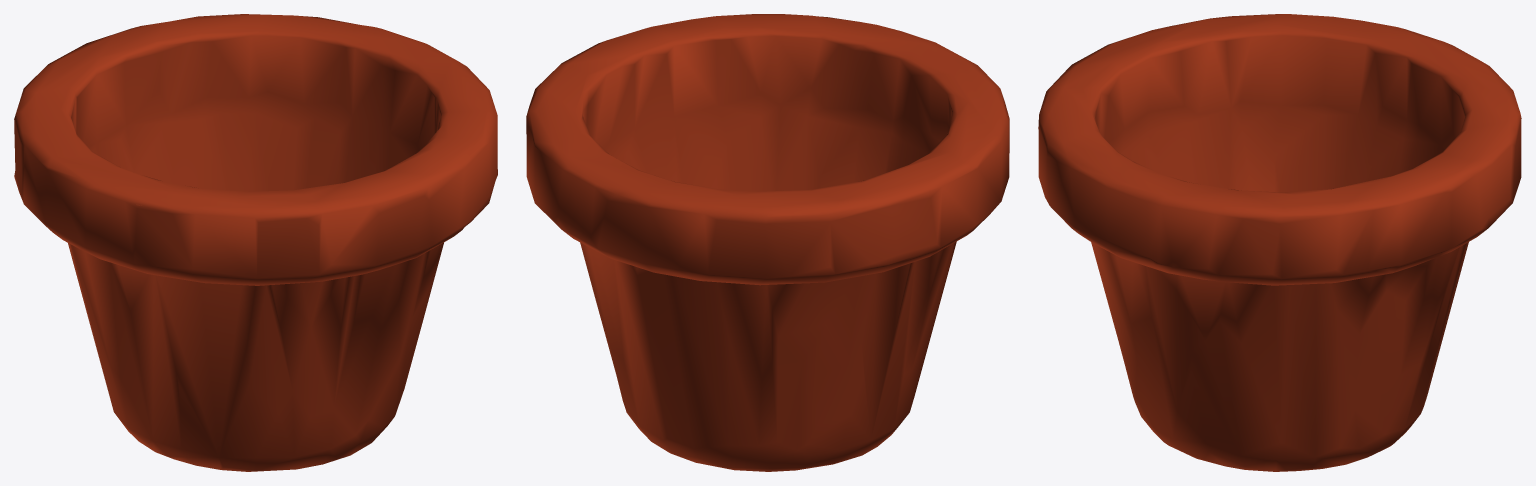
File: gen3d-flower-pot-lod1.glb
The picture shows the model from 3 angles, left to right: view 1: azimuth 30°, elevation 25°; view 2: azimuth 150°, elevation 25°; view 3: azimuth 270°, elevation 25°; orthographic projection.
Visible parts, largest first — view 1: part_0; view 2: part_0; view 3: part_0.
Part boxes in pixels (box(x1,y1,x2,y2)): part_0: box(14, 14, 497, 471); part_0: box(526, 14, 1009, 471); part_0: box(1038, 14, 1521, 471).
Bounding box in the file's own units: 1.43 × 0.9999 × 1.43.
